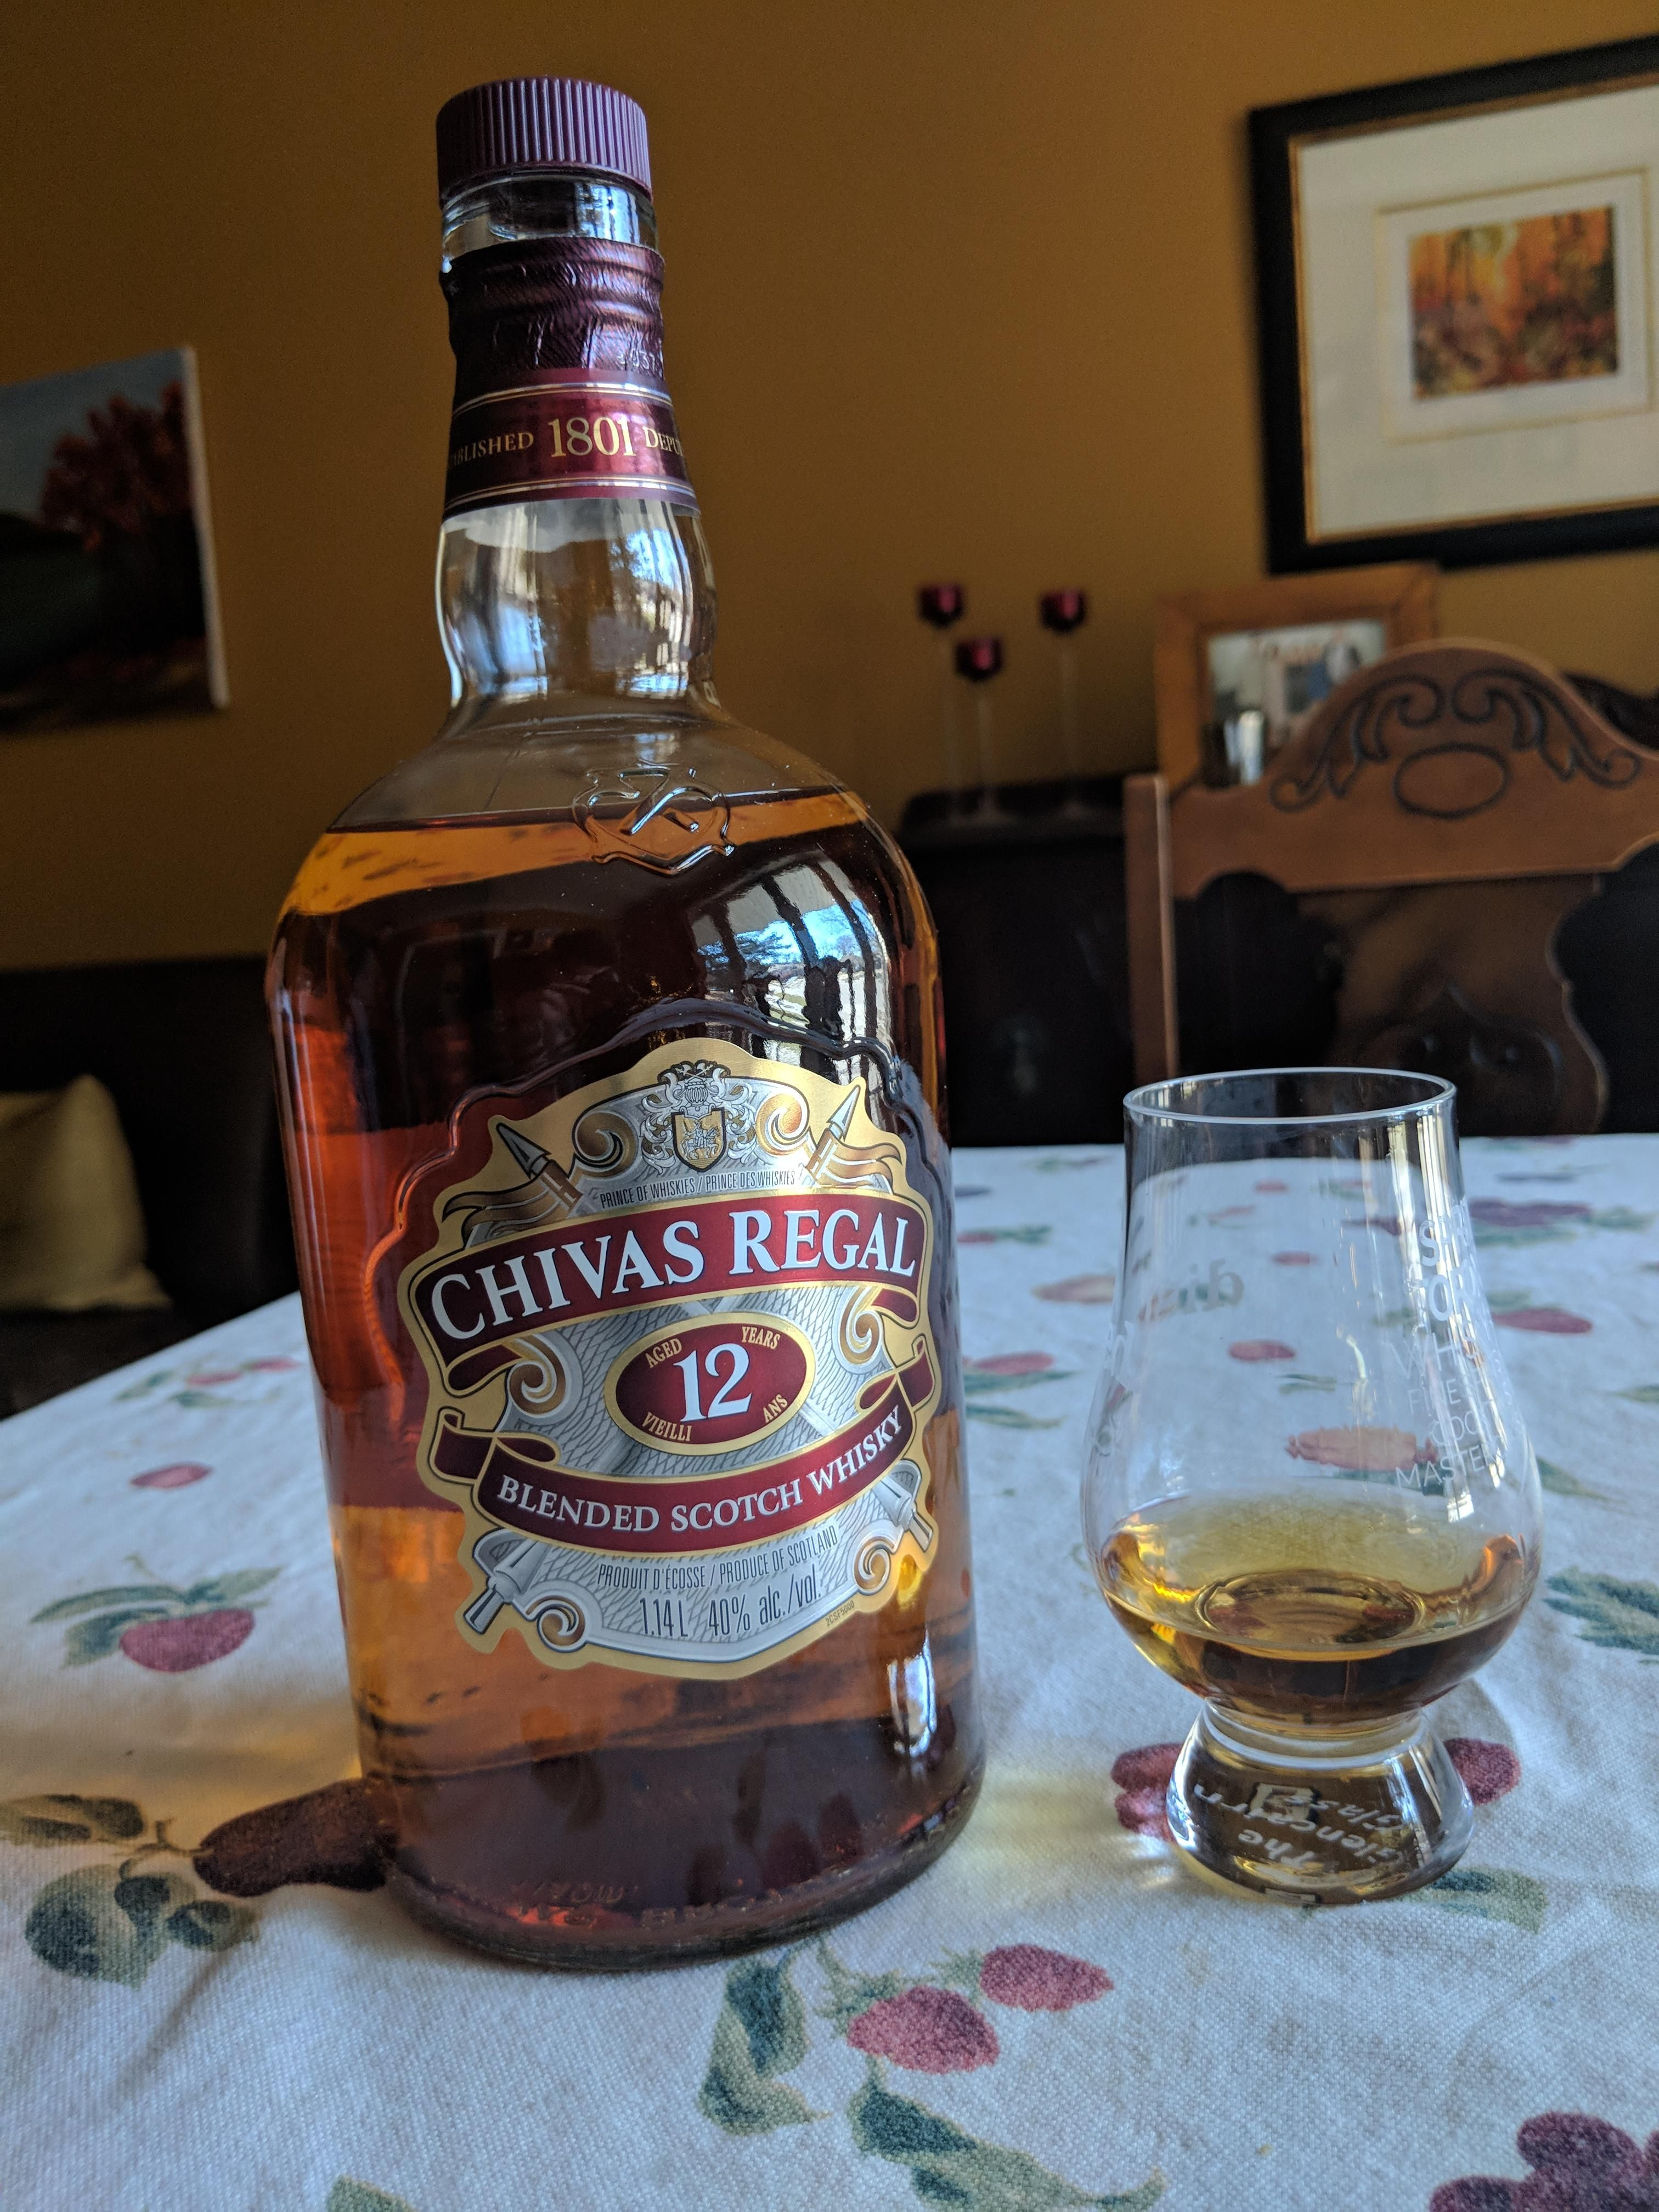Chivas Regal: (240, 61, 1014, 1996)
